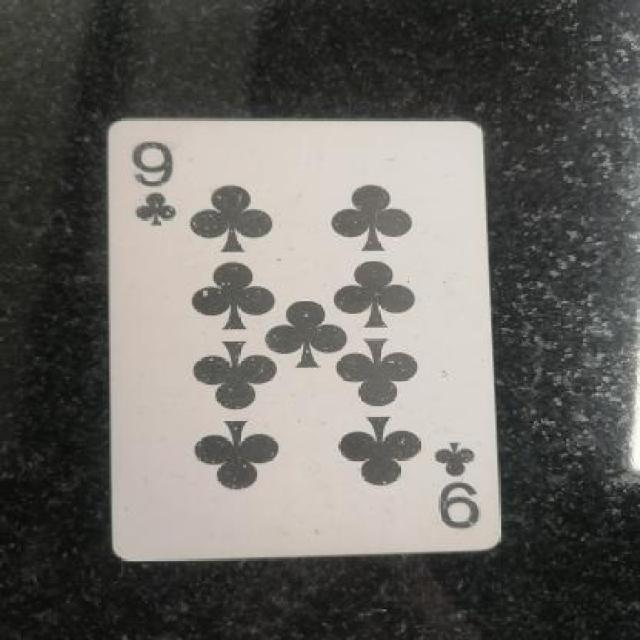9C: (421, 433, 508, 542), (116, 141, 202, 245)
